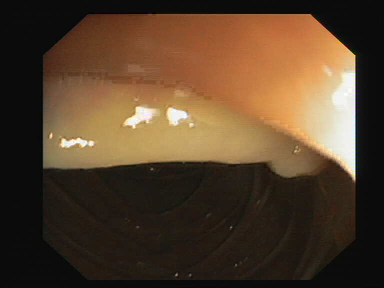polyp: (244, 110, 334, 202)
